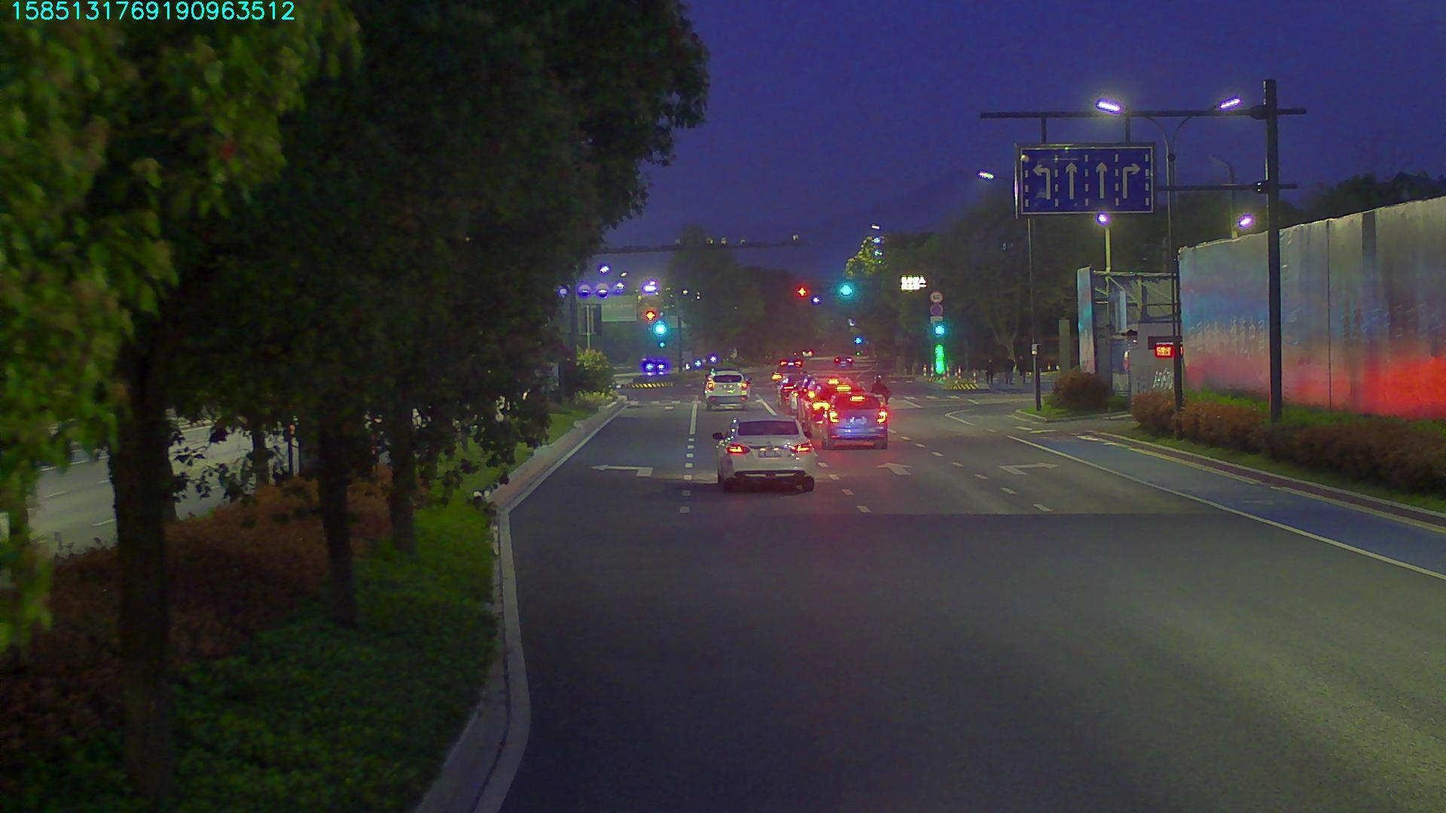green: (837, 280, 853, 293)
red: (792, 282, 809, 299)
